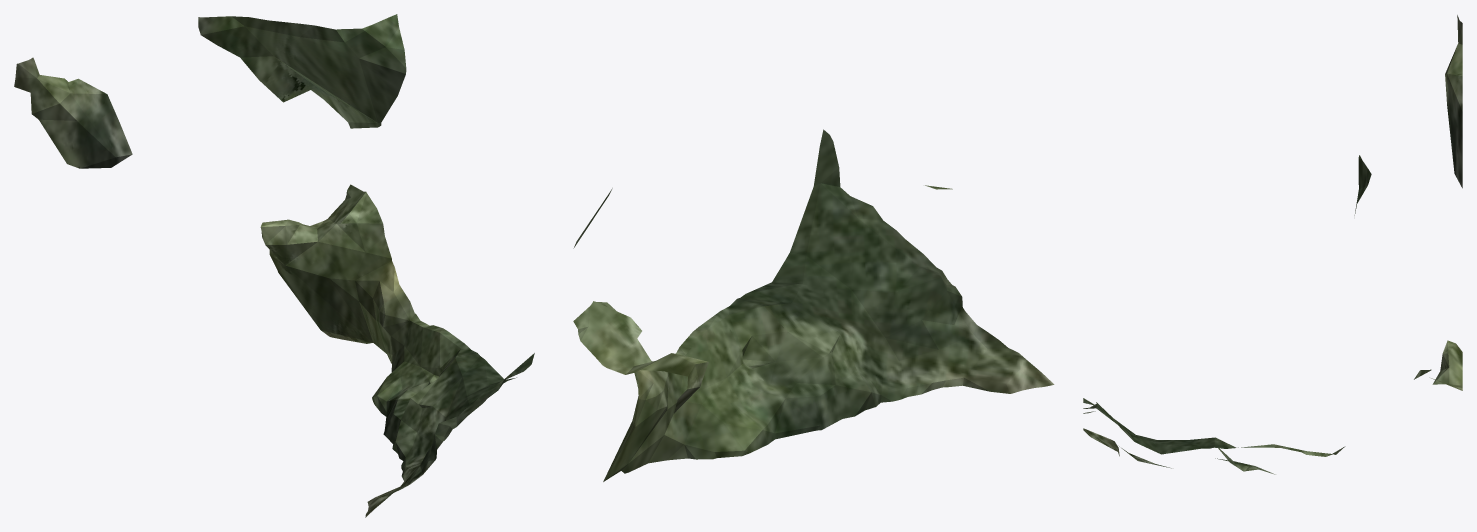
3 renders of one model, left to right at view 1: azimuth 30°, elevation 25°; view 2: azimuth 150°, elevation 25°; view 3: azimuth 270°, elevation 25°, orthographic. The views are drawn at different scales.
Size of the model in its own units: 2.95 by 2.95 by 2.95.
Materials: 2 (2 with a texture image).
